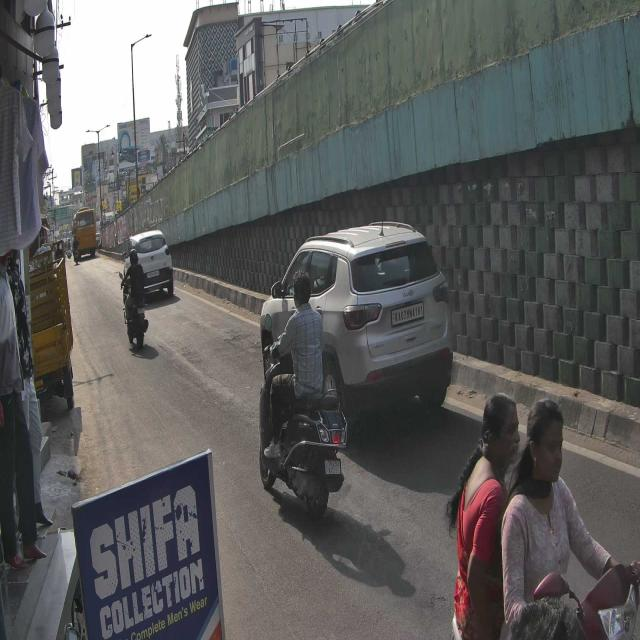single_rider: (255, 270, 346, 516)
